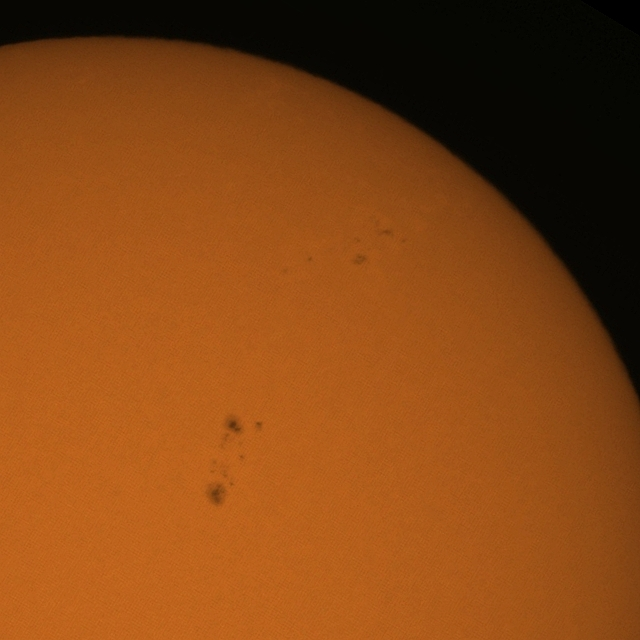sunspot: (207, 470, 234, 511), (352, 252, 368, 268)
